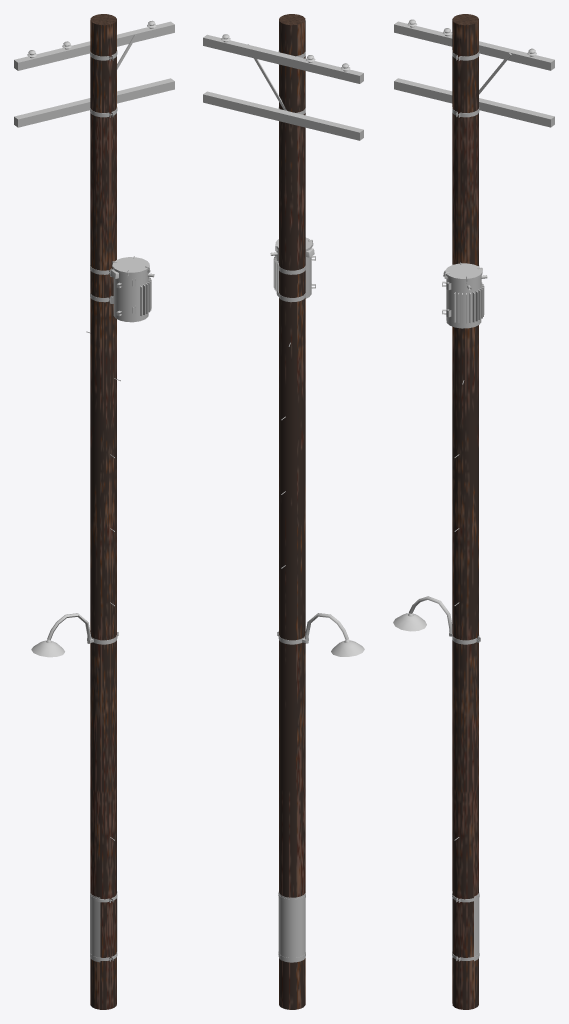
The model's file is denchuu_set01w.fbx.
3 renders of one model, left to right at view 1: azimuth 30°, elevation 25°; view 2: azimuth 150°, elevation 25°; view 3: azimuth 330°, elevation 25°, orthographic.
Visible parts, largest first — view 1: denchuu_set01w; view 2: denchuu_set01w; view 3: denchuu_set01w.
Boxes of the visible parts, box(x1,y1,x2,y2) form: denchuu_set01w: box(14, 14, 174, 1009); denchuu_set01w: box(203, 14, 364, 1009); denchuu_set01w: box(393, 14, 554, 1009).
Size of the model in its own units: 2 by 12 by 0.806.
